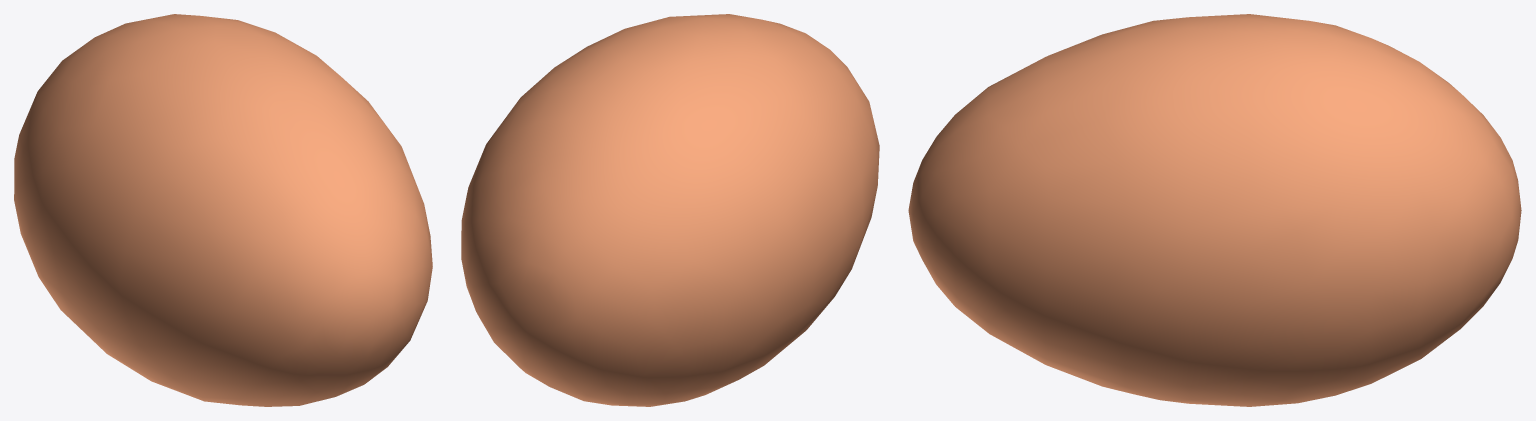
Rendered from MeshEgg_19_0.obj.
3 renders of one model, left to right at view 1: azimuth 30°, elevation 25°; view 2: azimuth 150°, elevation 25°; view 3: azimuth 270°, elevation 25°, orthographic. The views are drawn at different scales.
Parts seen in each view (by area): view 1: Egg_19; view 2: Egg_19; view 3: Egg_19.
Part boxes in pixels (x1,y1,x2,y2): Egg_19: [14, 14, 432, 406]; Egg_19: [461, 14, 879, 406]; Egg_19: [908, 14, 1521, 406].
Size of the model in its own units: 0.0528 by 0.0528 by 0.0824.
